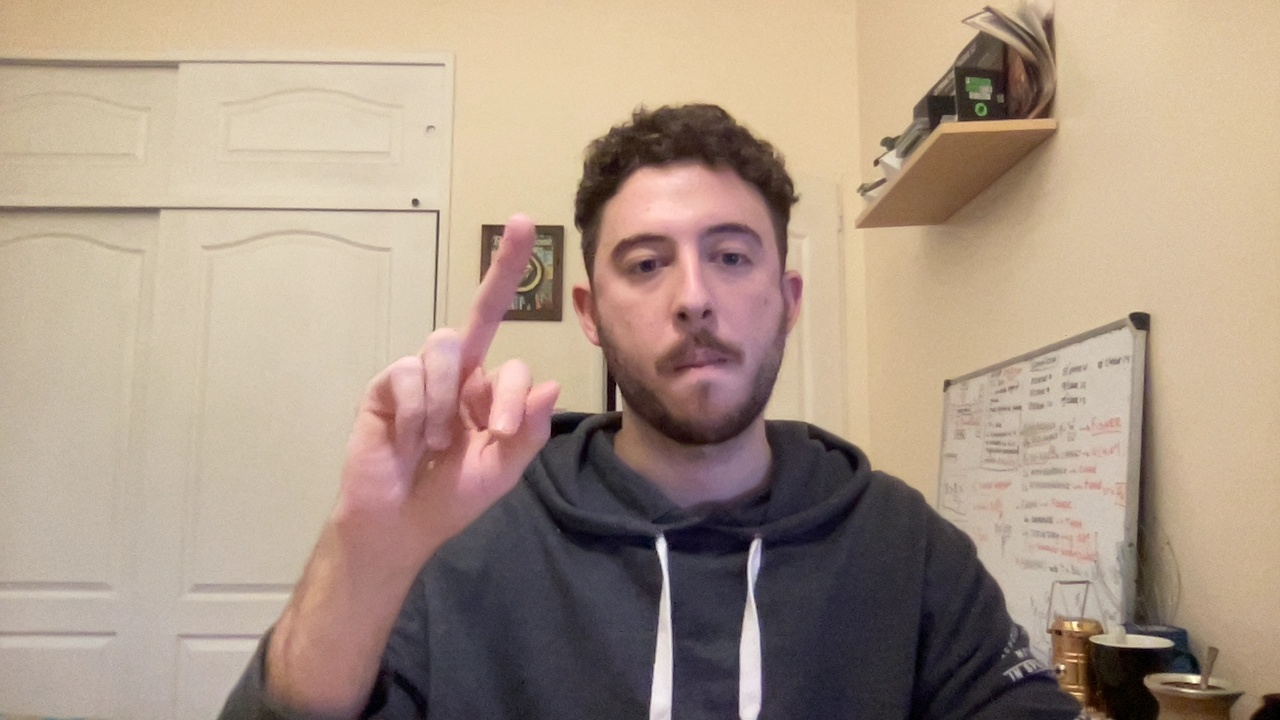mayor: (320, 187, 578, 536)
